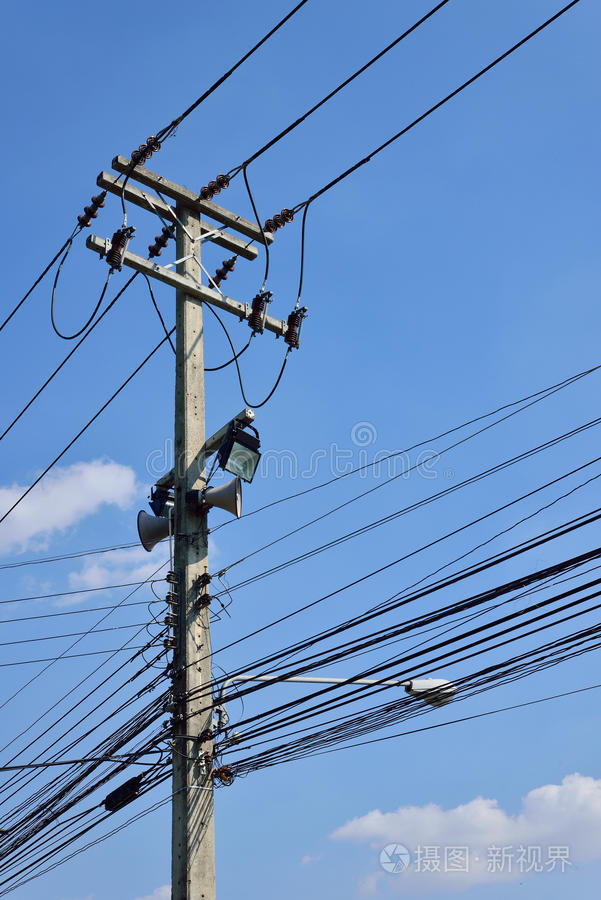insulator: (73, 195, 105, 227), (130, 135, 160, 166), (209, 258, 237, 291), (142, 227, 172, 257), (199, 175, 229, 201), (262, 208, 293, 232)
